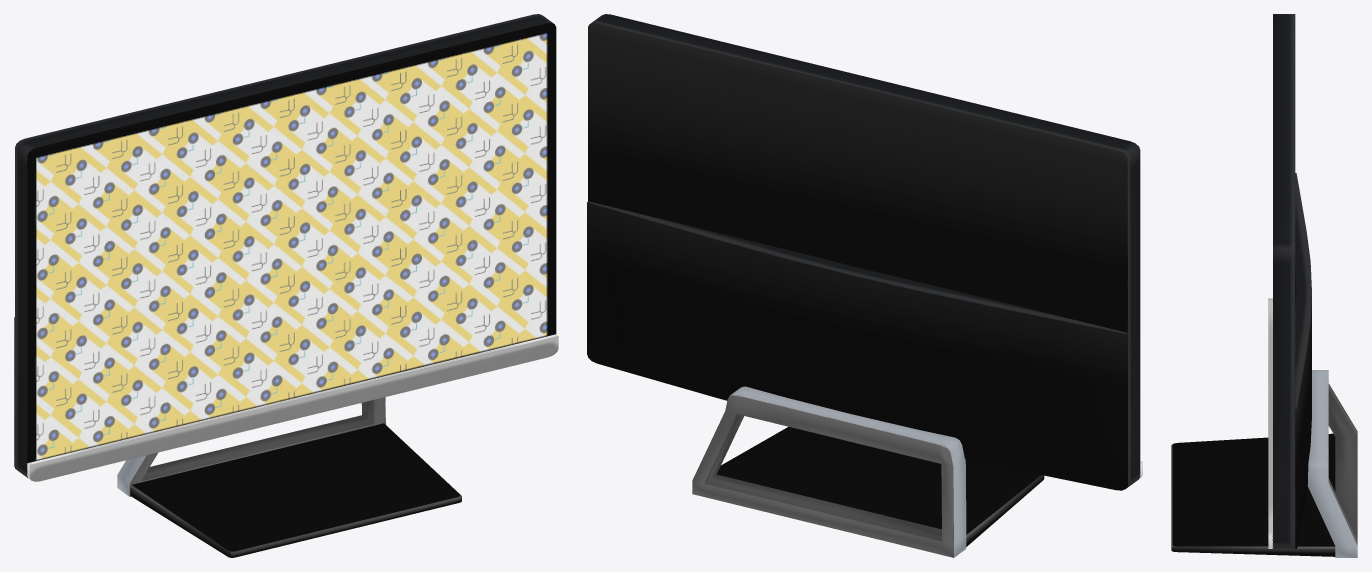
The model's file is BigMonitor.gltf.
3 views of the same model, side by side, from view 1: azimuth 30°, elevation 25°; view 2: azimuth 150°, elevation 25°; view 3: azimuth 270°, elevation 25° (orthographic). The views are drawn at different scales.
Parts seen in each view (by area): view 1: Beeg Monitor Screen; view 2: Beeg Monitor Screen; view 3: Beeg Monitor Screen.
Boxes of the visible parts, x1,y1,x2,y2 form: Beeg Monitor Screen: (14, 14, 558, 557); Beeg Monitor Screen: (587, 14, 1142, 557); Beeg Monitor Screen: (1171, 14, 1357, 557).
Bounding box in the file's own units: 0.5 × 0.366 × 0.1663.
1 material, 1 textured.
